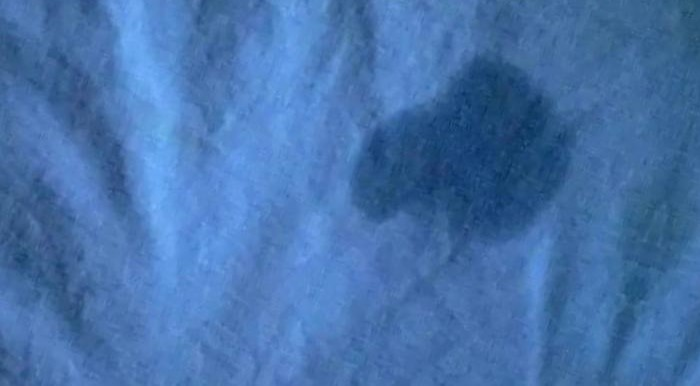stain: (347, 50, 586, 252)
